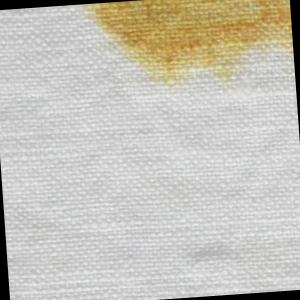Oil Stain: (89, 1, 296, 103)
